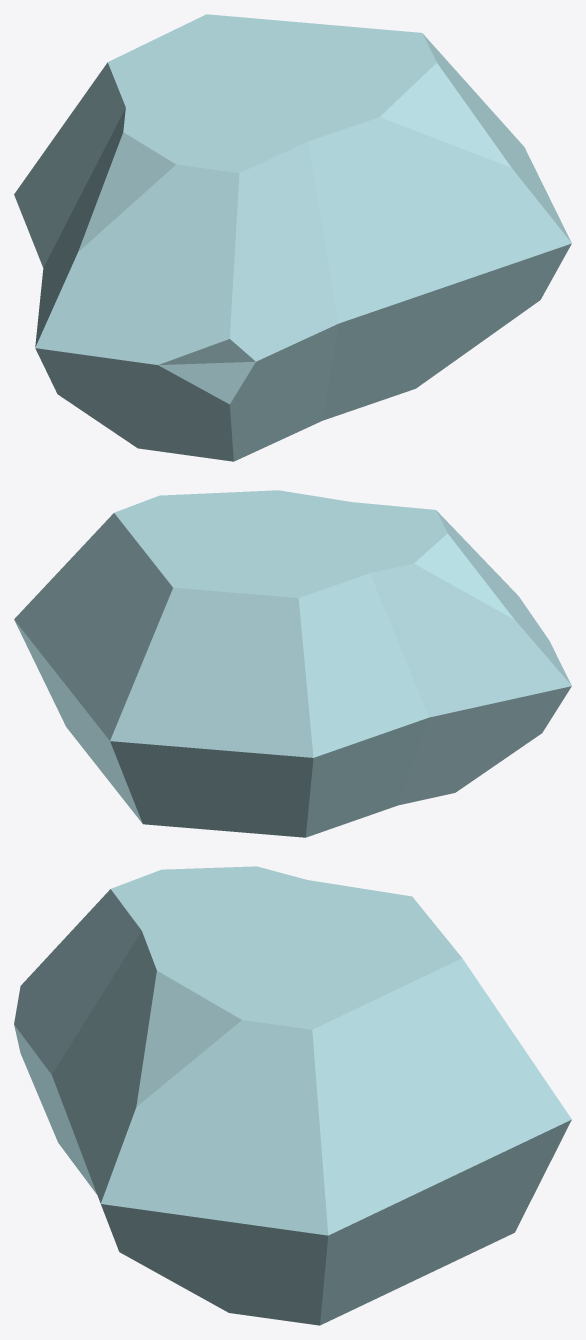
Rendered from Stone Large F.glb.
3 renders of one model, top to bottom at view 1: azimuth 30°, elevation 25°; view 2: azimuth 150°, elevation 25°; view 3: azimuth 270°, elevation 25°, orthographic. The views are drawn at different scales.
Visible parts, largest first — view 1: stone_largeF; view 2: stone_largeF; view 3: stone_largeF.
Part boxes in pixels (x1,y1,x2,y2): stone_largeF: (14, 14, 571, 461); stone_largeF: (14, 490, 571, 837); stone_largeF: (14, 866, 571, 1325).
Bounding box in the file's own units: 1.1 × 0.479 × 0.899.
